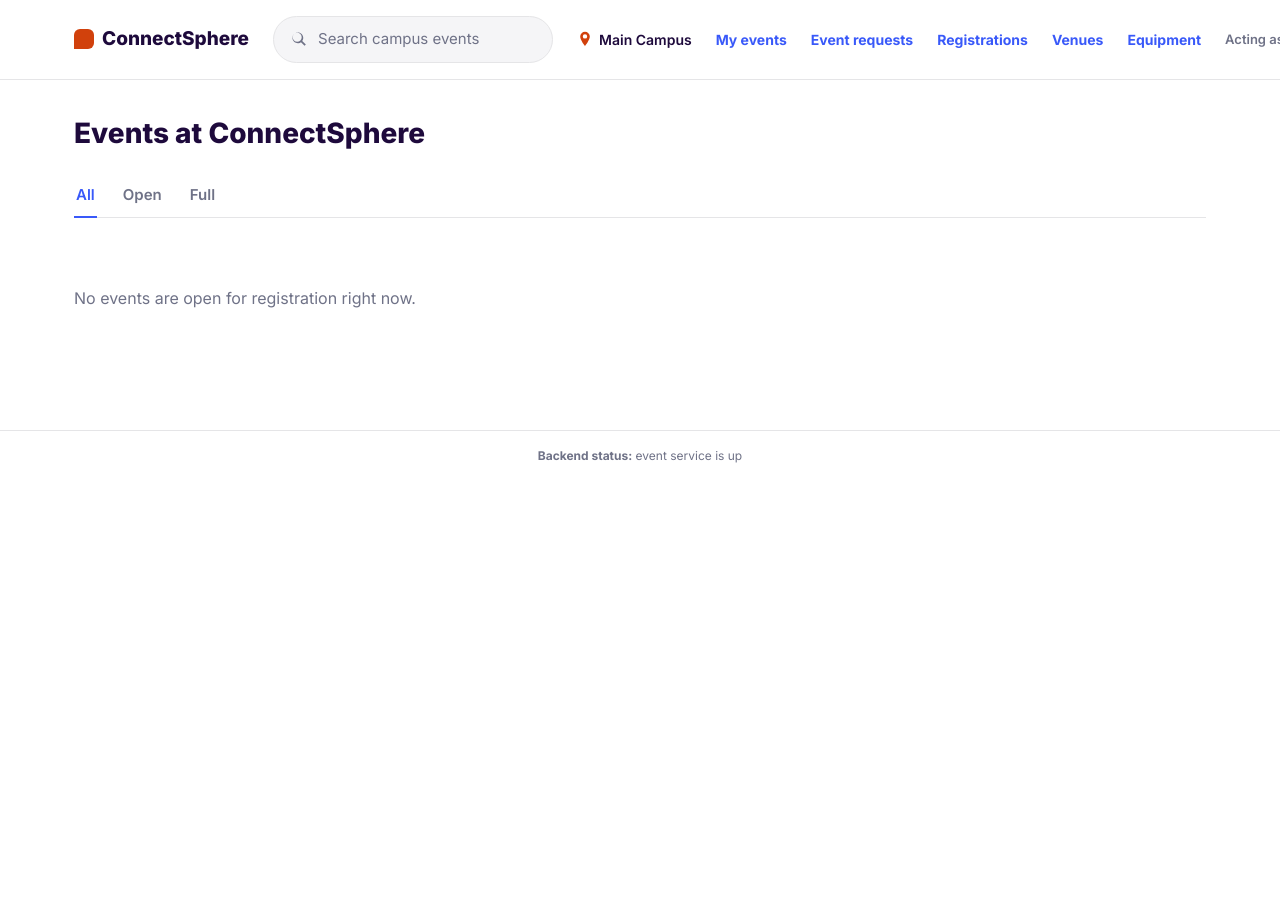
Scenario: venue calendar (US21) › TC-US21-20: Venue staff see a booking's reference, a coordinator not on another's event (D58)
This screenshot has width=1280, height=900.
Click the button "Venues" at x=1078, y=39, box [1052,29,1104,50]
(page scrolled)
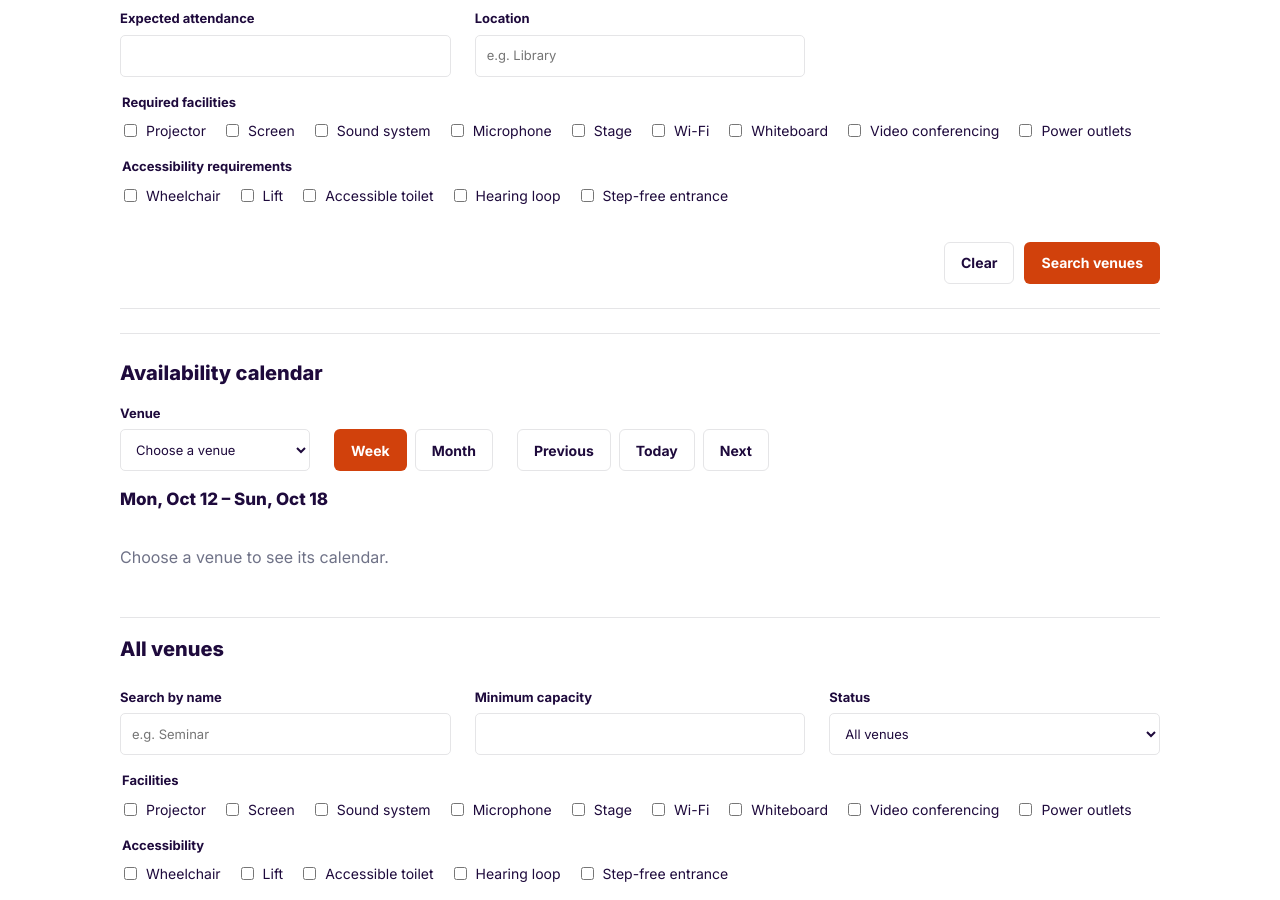
Select "SCIS Seminar Room 2-1" in the dropdown labelled "Venue" at x=215, y=450, box [120,429,310,471]
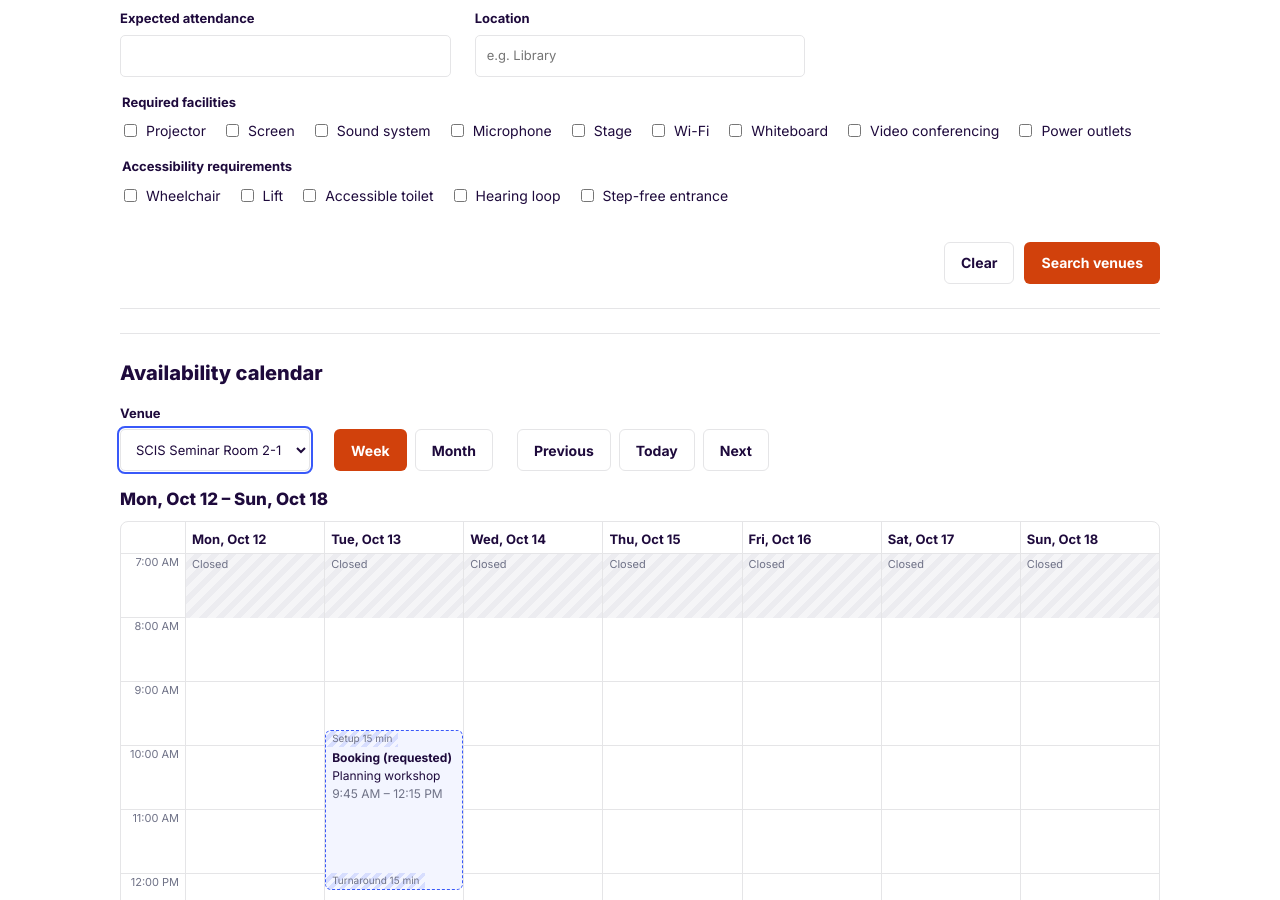
Click the button with aria-label "Booking (requested): Planning workshop" at x=394, y=810, box [325,730,463,890]
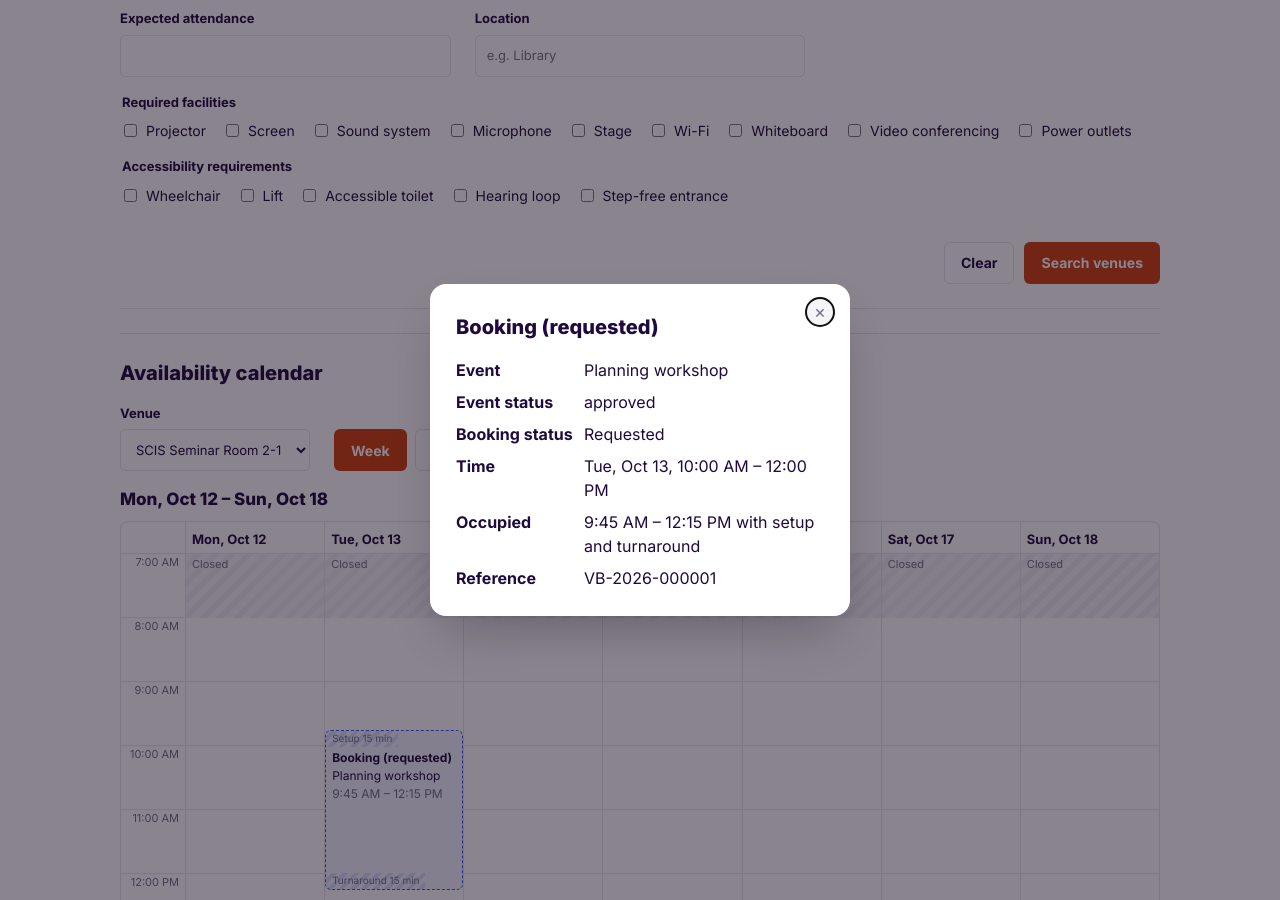
expect the dialog shows "VB-2026-000001": met, box [584,568,716,588]
